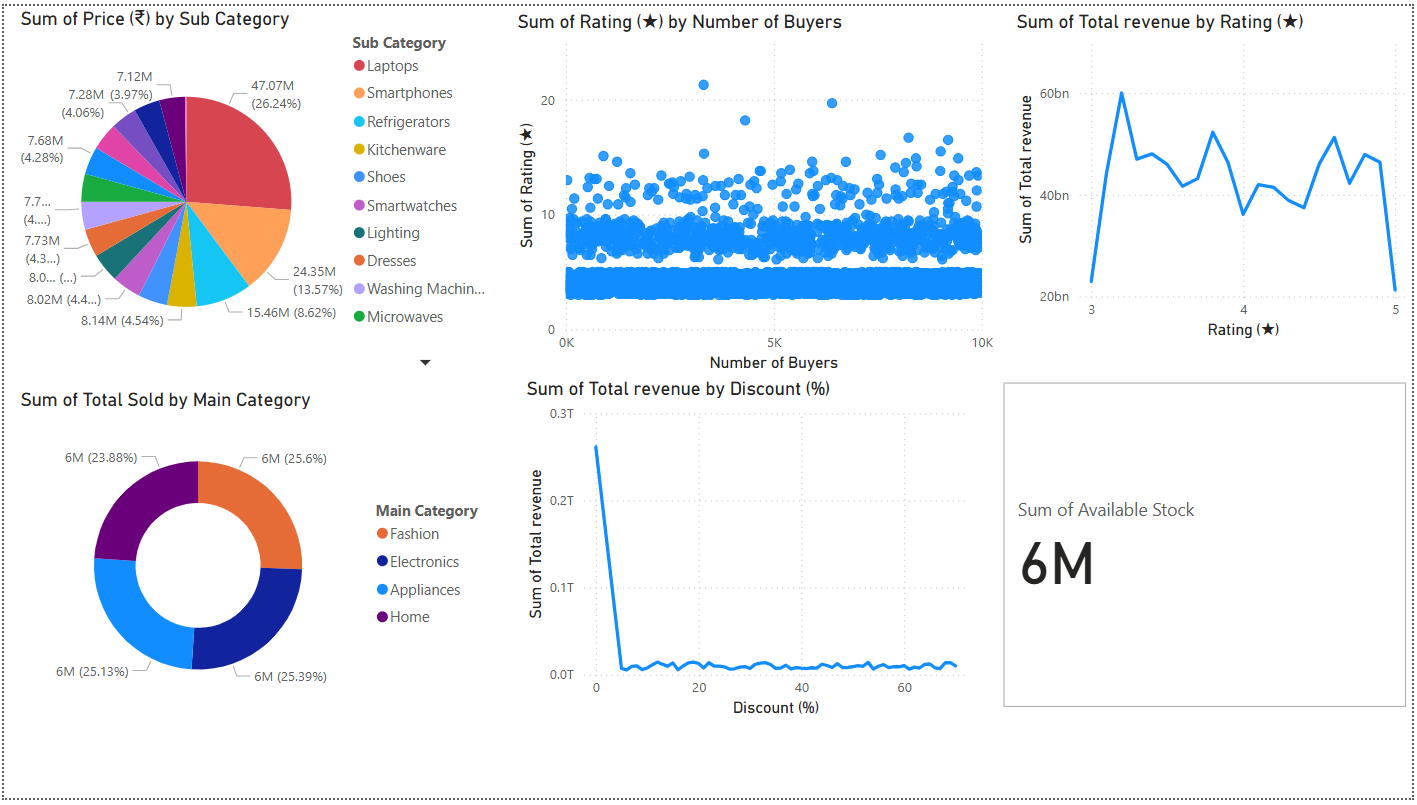

What the dashboard file says about the page in this screenshot:
{"tool":"powerbi","page":{"name":"Page 2","canvas":[1280,720],"ordinal":1},"visuals":[{"type":"pieChart","fields":{"Category":["flipkart_products_with_images.Sub Category"],"Y":["Sum(flipkart_products_with_images.Price (₹))"]},"box":[10,0,441.8,337.3],"z":0},{"type":"donutChart","fields":{"Category":["flipkart_products_with_images.Main Category"],"Y":["Sum(flipkart_products_with_images.Total Sold)"]},"box":[10,347.3,441.8,303.6],"z":1},{"type":"scatterChart","fields":{"X":["flipkart_products_with_images.Number of Buyers"],"Y":["Sum(flipkart_products_with_images.Rating (★))"]},"box":[462,0,442,337],"z":2},{"type":"cardVisual","fields":{"Data":["Sum(flipkart_products_with_images.Available Stock)"]},"box":[903.6,337.3,376.4,305.5],"z":3},{"type":"lineChart","fields":{"Category":["flipkart_products_with_images.Discount (%)"],"Y":["Sum(flipkart_products_with_images.Total revenue)"]},"box":[470,337.3,410,313.6],"z":5},{"type":"lineChart","fields":{"Y":["Sum(flipkart_products_with_images.Total revenue)"],"Category":["flipkart_products_with_images.Rating (★)"]},"box":[915.5,0,364.5,307.3],"z":6}]}

Visuals, with their boxes in screenshot pixels (x1, y1, x2, y2), scaled from the page's 1280x720 canvas onto the 1417x805 screenshot:
pieChart - flipkart_products_with_images.Sub Category x Sum(flipkart_products_with_images.Price (₹)): bbox=(11, 0, 500, 377)
donutChart - flipkart_products_with_images.Main Category x Sum(flipkart_products_with_images.Total Sold): bbox=(11, 388, 500, 728)
scatterChart - flipkart_products_with_images.Number of Buyers x Sum(flipkart_products_with_images.Rating (★)): bbox=(511, 0, 1001, 377)
cardVisual - Sum(flipkart_products_with_images.Available Stock): bbox=(1000, 377, 1416, 719)
lineChart - flipkart_products_with_images.Discount (%) x Sum(flipkart_products_with_images.Total revenue): bbox=(520, 377, 974, 728)
lineChart - Sum(flipkart_products_with_images.Total revenue) x flipkart_products_with_images.Rating (★): bbox=(1013, 0, 1416, 344)
